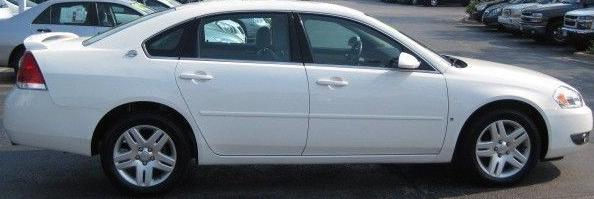backlight: (14, 49, 52, 96)
headlight: (550, 81, 588, 114)
side_glass: (141, 9, 412, 73)
